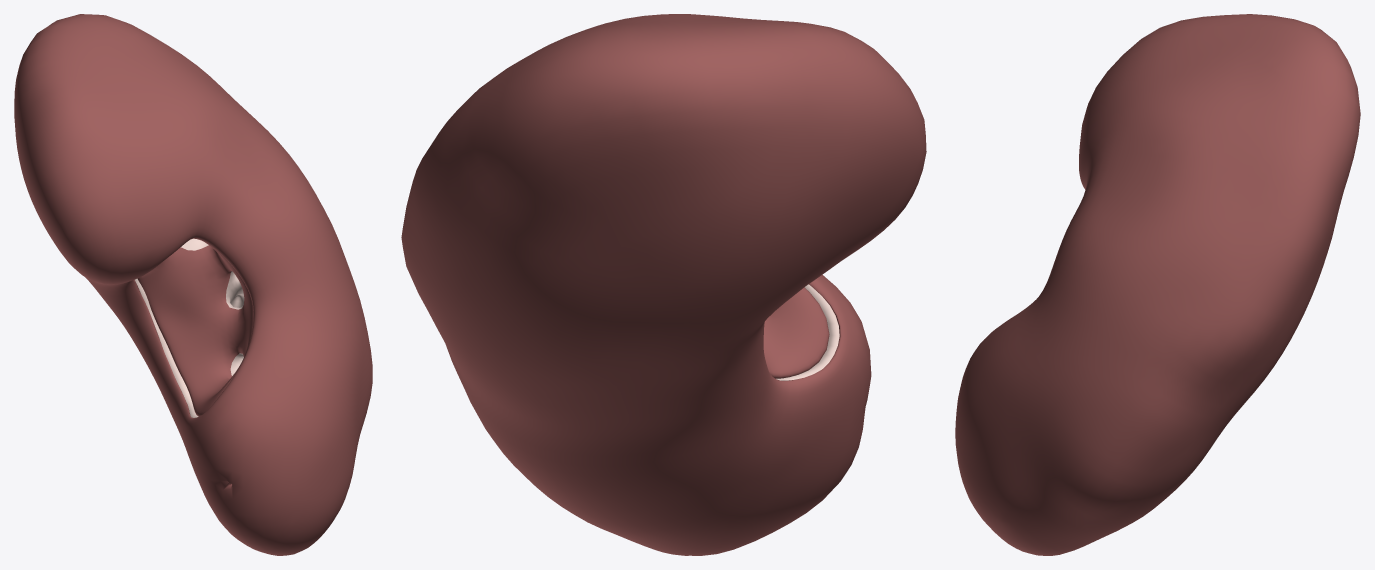
Rendered from hra-kidney-left-male-v1.glb.
3 renders of one model, left to right at view 1: azimuth 30°, elevation 25°; view 2: azimuth 150°, elevation 25°; view 3: azimuth 270°, elevation 25°, orthographic. The views are drawn at different scales.
Visible parts, largest first — view 1: VH_M_kidney_capsule_L, VH_M_hilum_of_kidney_L, VH_M_renal_column_L, VH_M_outer_cortex_of_kidney_L; view 2: VH_M_kidney_capsule_L, VH_M_hilum_of_kidney_L, VH_M_outer_cortex_of_kidney_L; view 3: VH_M_kidney_capsule_L.
Part boxes in pixels (left/top/right/bottom): VH_M_kidney_capsule_L: left=14, top=14, right=372, bottom=555; VH_M_hilum_of_kidney_L: left=137, top=238, right=253, bottom=416; VH_M_renal_column_L: left=181, top=238, right=244, bottom=375; VH_M_outer_cortex_of_kidney_L: left=135, top=278, right=198, bottom=417; VH_M_kidney_capsule_L: left=401, top=14, right=926, bottom=555; VH_M_hilum_of_kidney_L: left=763, top=287, right=829, bottom=378; VH_M_outer_cortex_of_kidney_L: left=776, top=284, right=839, bottom=380; VH_M_kidney_capsule_L: left=955, top=14, right=1360, bottom=555.
Size of the model in its own units: 0.0757 by 0.1065 by 0.0824.
